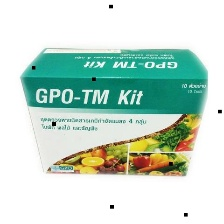book: (16, 45, 217, 182)
